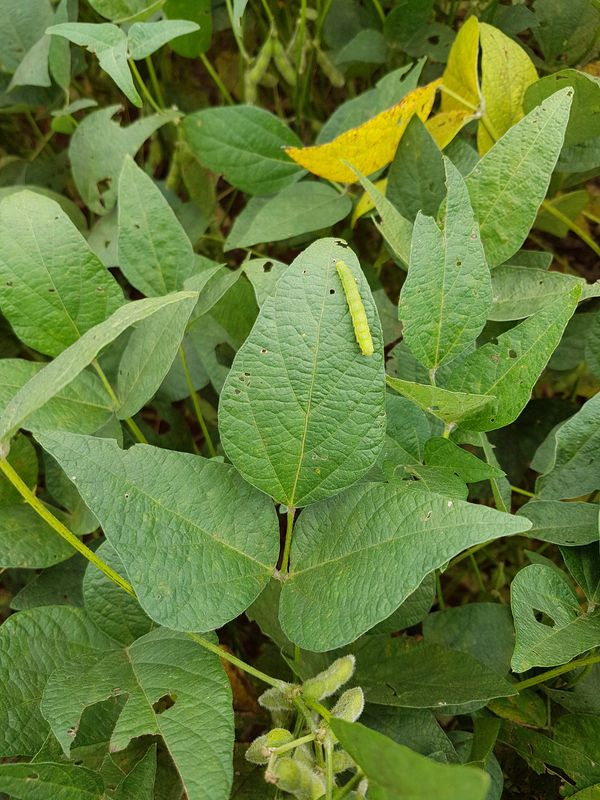Anticarsia_gemmatalis: (310, 251, 392, 369)
